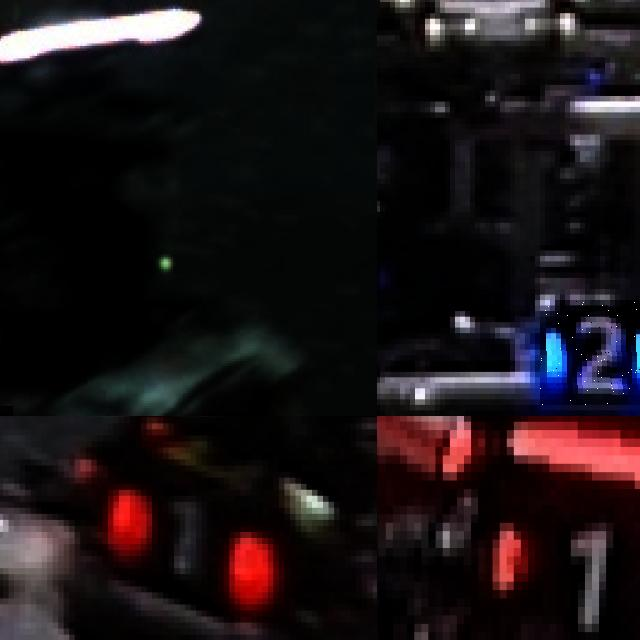B2: (540, 300, 640, 405)
R1: (102, 478, 279, 610), (478, 497, 640, 640)
